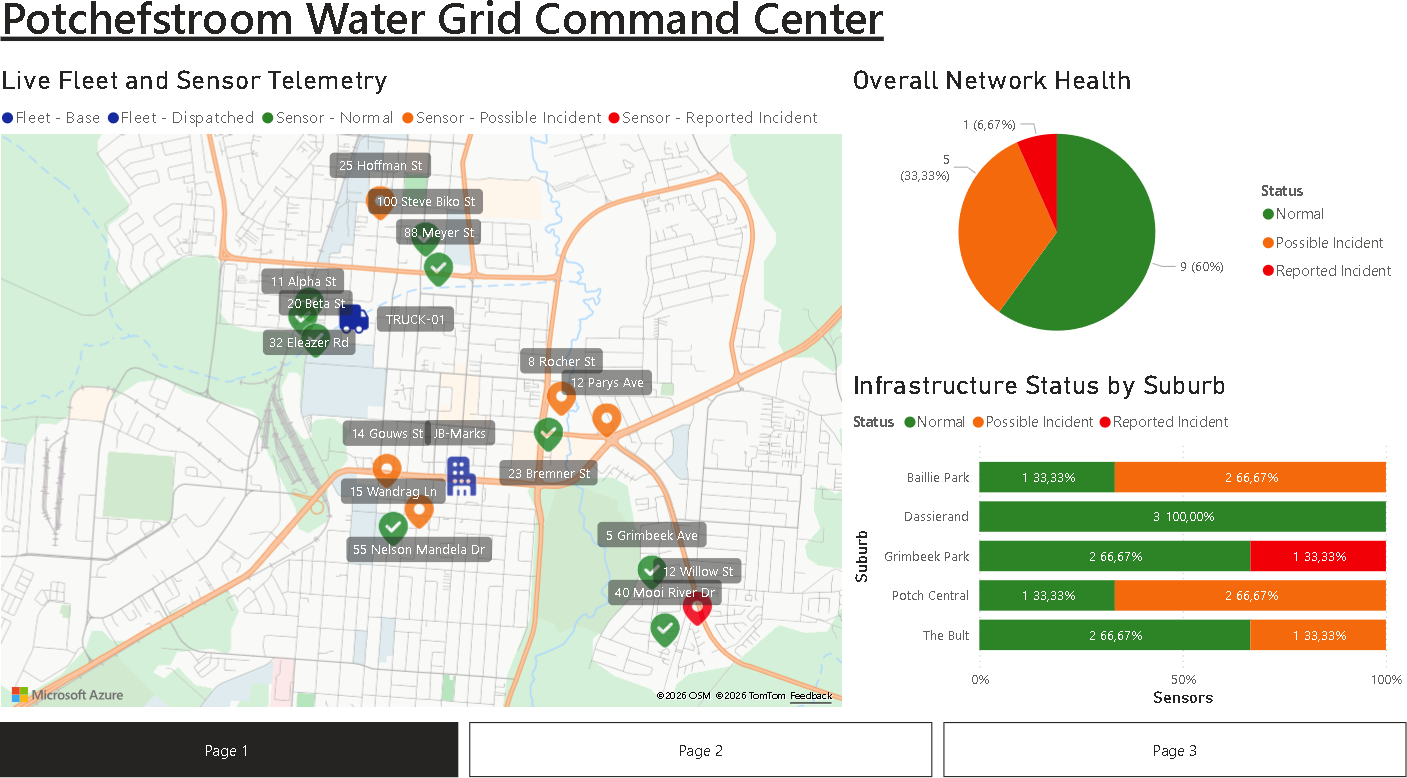

Layout of this report page (visuals, bound fields, positions):
{"tool":"powerbi","page":{"name":"Page 1","canvas":[1280,720],"ordinal":0},"visuals":[{"type":"hundredPercentStackedBarChart","title":"Infrastructure Status by Suburb","fields":{"Y":["CountNonNull(UnifiedLocations.id)"],"Category":["UnifiedLocations.suburb"],"Series":["UnifiedLocations.status"]},"box":[772.3,347,507.7,310.6],"z":0},{"type":"pieChart","title":"Overall Network Health","fields":{"Category":["UnifiedLocations.status"],"Y":["CountNonNull(UnifiedLocations.id)"]},"box":[772.3,70.7,507.7,276.4],"z":1000},{"type":"azureMap","title":"Live Fleet and Sensor Telemetry","fields":{"Y":["UnifiedLocations.lat"],"X":["UnifiedLocations.lon"],"Series":["UnifiedLocations.Legend_Category"],"Category":["UnifiedLocations.location_name"]},"box":[0,70.7,773.4,587],"z":2000},{"type":"textbox","title":"Potchefstroom Water Grid Command Center","box":[0,0,835.5,63.2],"z":3000},{"type":"pageNavigator","box":[0,666.2,1280,50.3],"z":4000}]}

Visuals, with their boxes in screenshot pixels (x1, y1, x2, y2), scaled from the page's 1280x720 canvas onto the 1407x778 screenshot:
"Infrastructure Status by Suburb" hundredPercentStackedBarChart: [849,375,1406,711]
"Overall Network Health" pieChart: [849,76,1406,375]
"Live Fleet and Sensor Telemetry" azureMap: [0,76,850,711]
"Potchefstroom Water Grid Command Center" textbox: [0,0,918,68]
pageNavigator: [0,720,1406,774]
